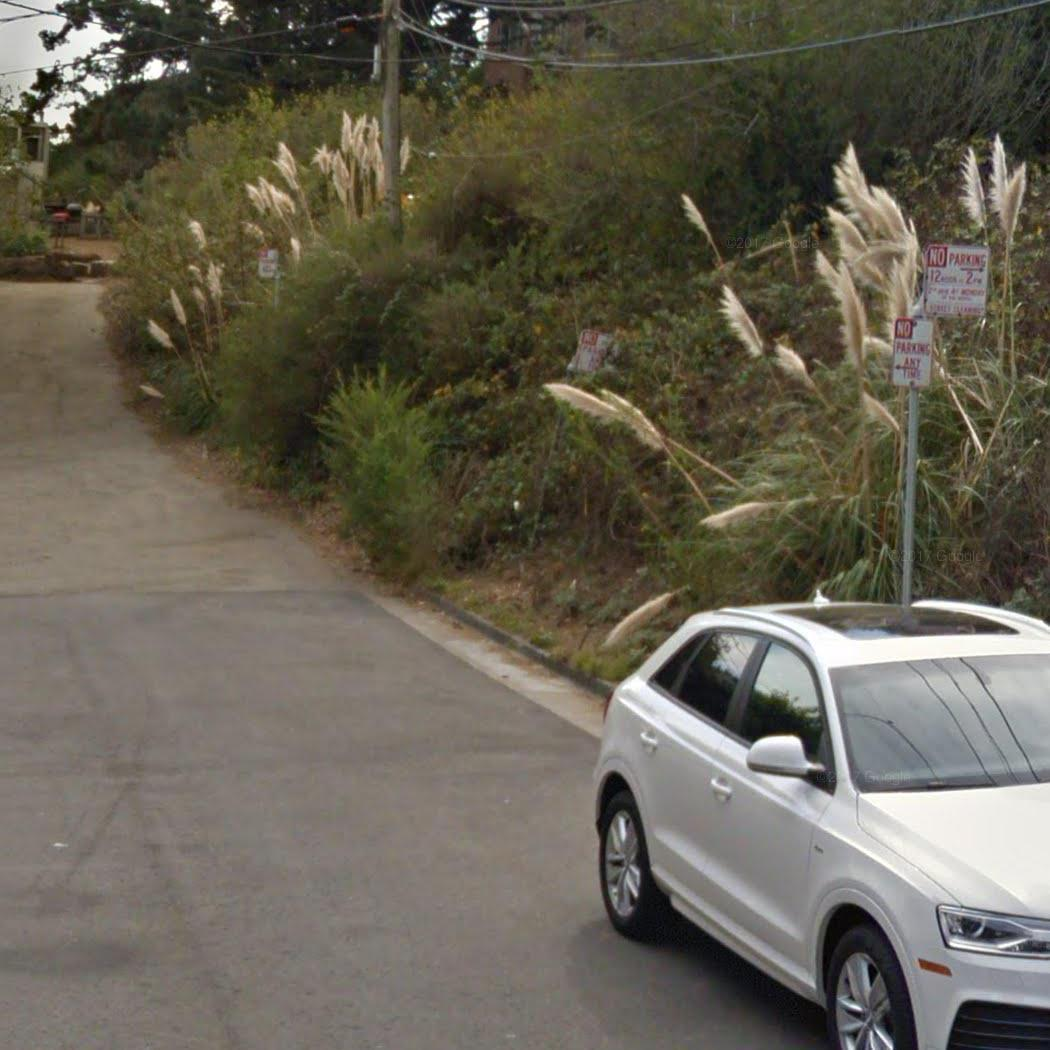No Parking: (924, 243, 989, 314)
No Parking Anytime: (890, 318, 935, 389)
